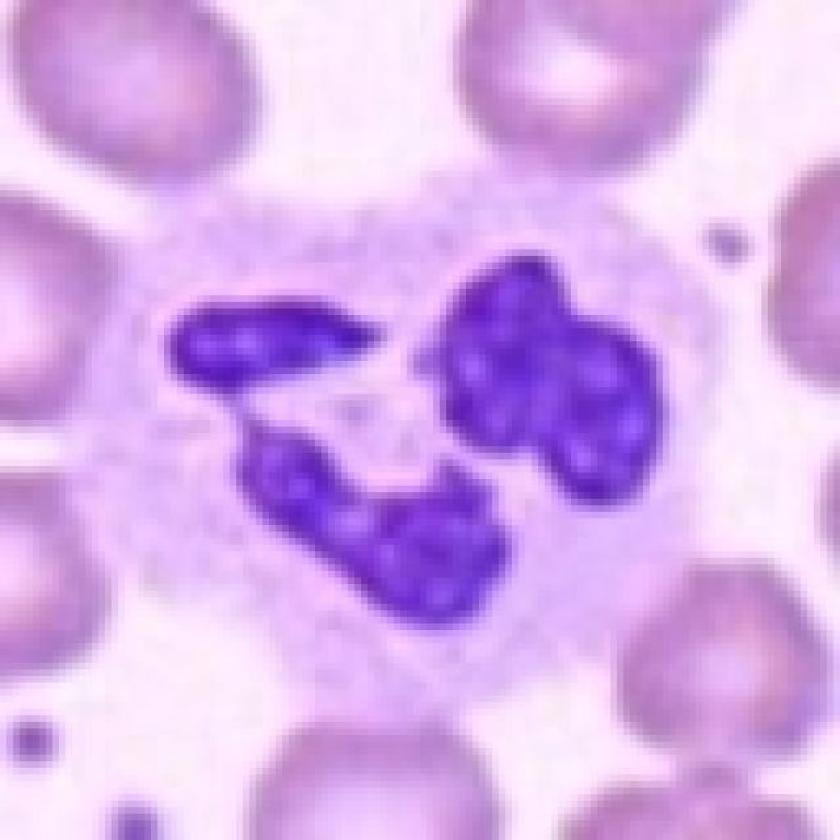neutrophil: (34, 154, 802, 696)
